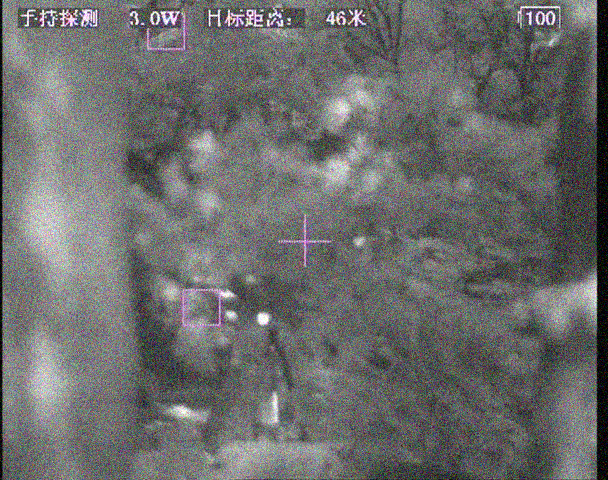my: (255, 312, 268, 326)
